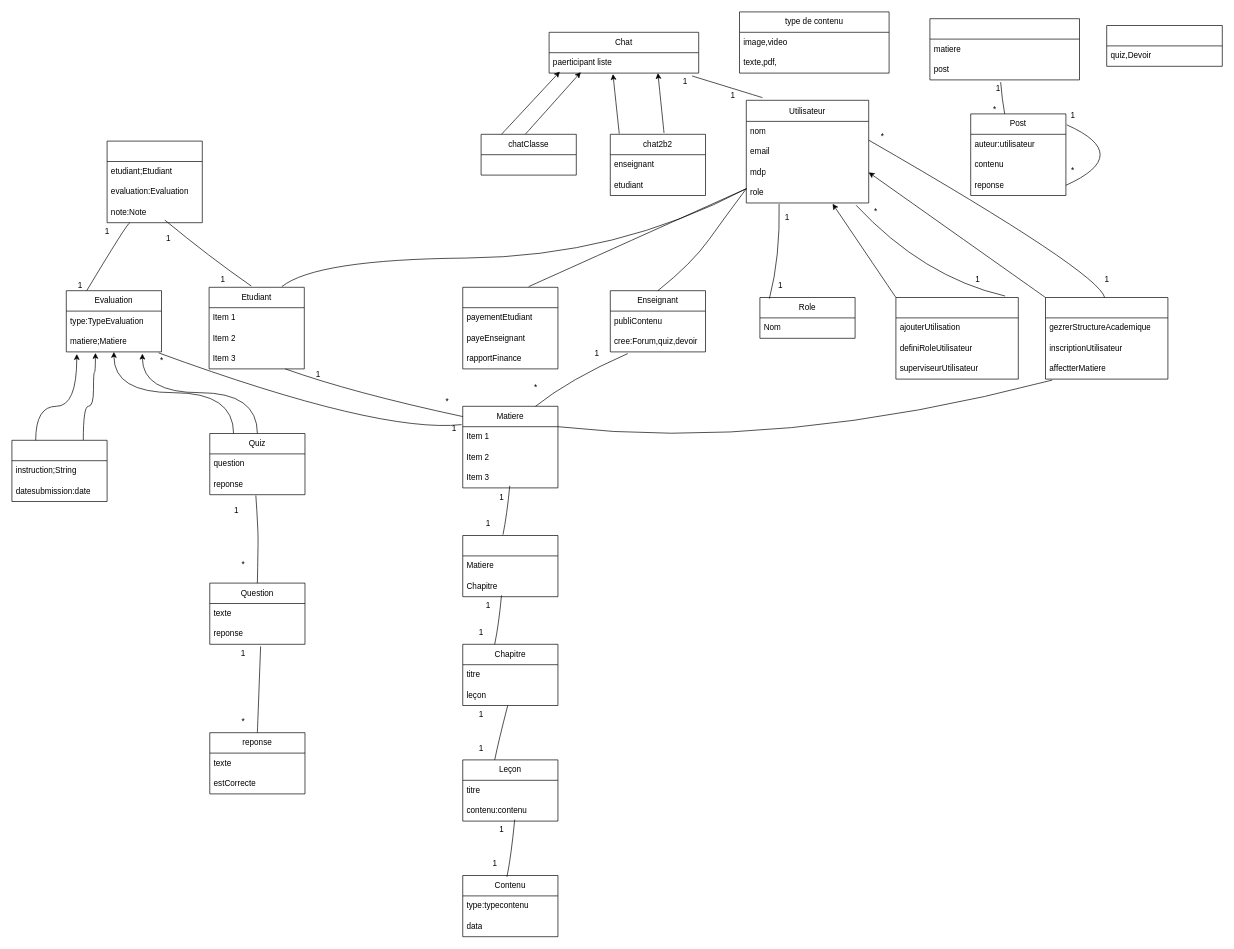
Image size: 1234x949. Some labels were removed from this diagram. The shapes that lost their labels are listed below. From the top down, each one's box as (x1, y1, x2, y2) in pixels, then its label:
(929, 18, 1080, 80): forum
(1106, 25, 1222, 66): typeEvaluation
(106, 140, 202, 223): Resltat
(462, 287, 558, 369): Comptabilite
(895, 297, 1018, 379): Administration
(1045, 297, 1168, 379): Responsable de la scolarite
(11, 440, 107, 502): Devoir
(462, 535, 558, 597): Cours
